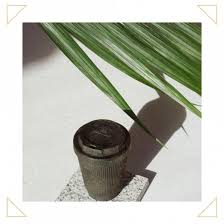cup: (72, 120, 135, 201)
